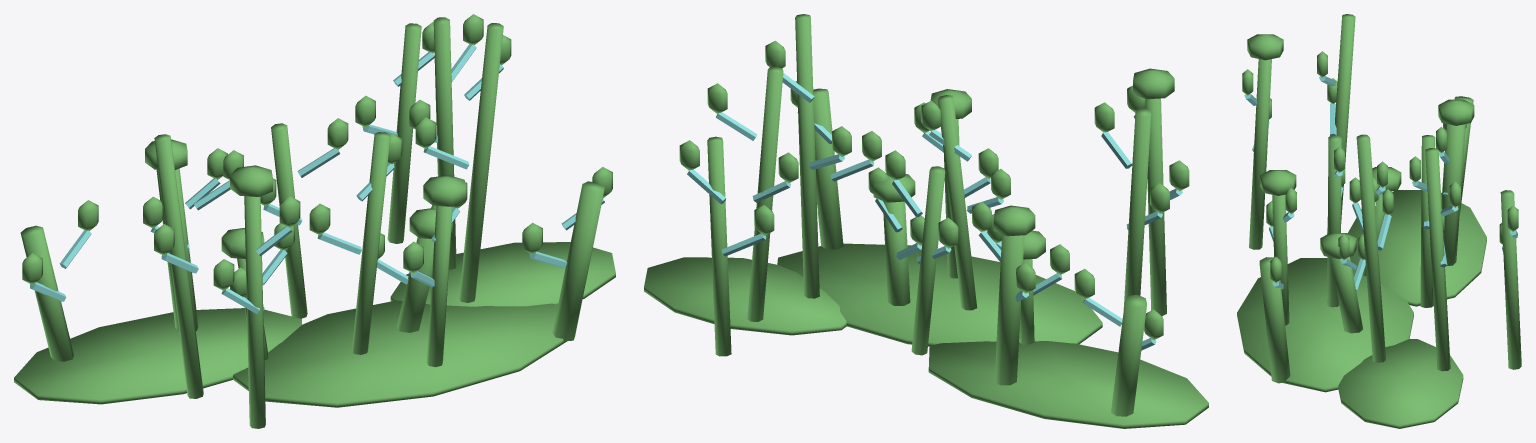
File: filter_grove_a.obj
3 renders of one model, left to right at view 1: azimuth 30°, elevation 25°; view 2: azimuth 150°, elevation 25°; view 3: azimuth 270°, elevation 25°, orthographic. The views are drawn at different scales.
Visible parts, largest first — view 1: filter_grove_a; view 2: filter_grove_a; view 3: filter_grove_a.
Part boxes in pixels (x1,y1,x2,y2): filter_grove_a: [14, 14, 615, 428]; filter_grove_a: [644, 14, 1208, 428]; filter_grove_a: [1237, 14, 1521, 428].
Size of the model in its own units: 6.73 by 3.18 by 3.45.
